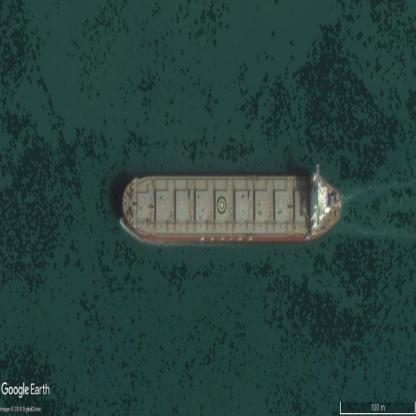ship: (122, 172, 342, 238)
